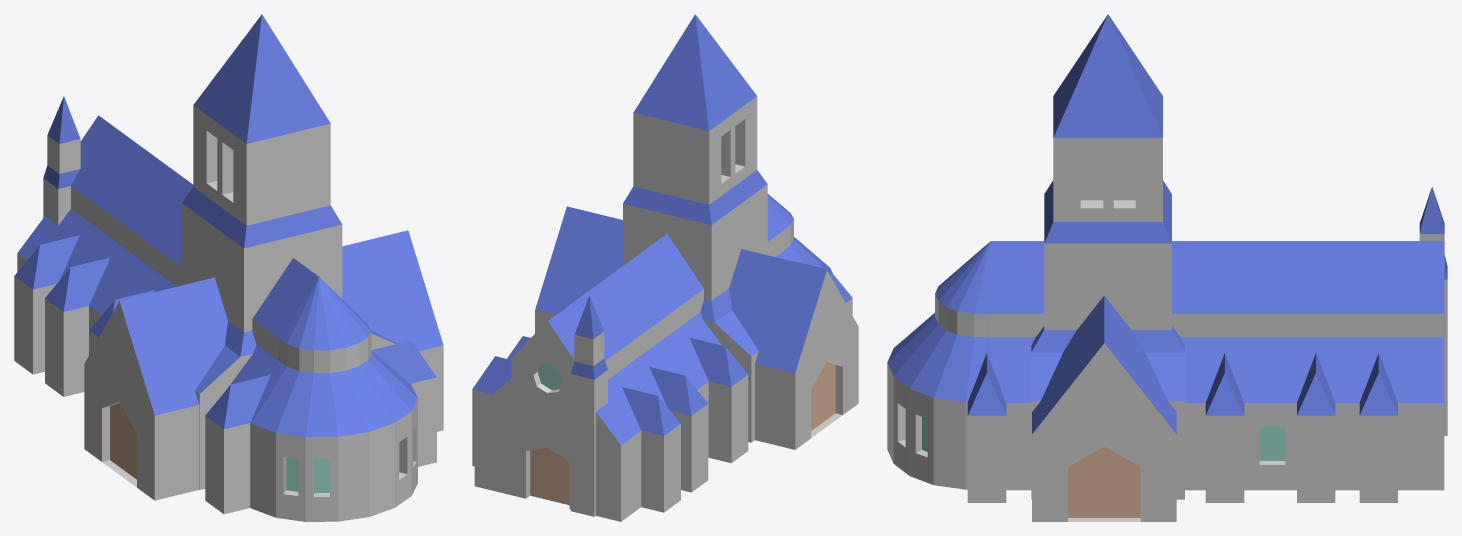
Rendered from Eglise.fbx.
3 renders of one model, left to right at view 1: azimuth 30°, elevation 25°; view 2: azimuth 150°, elevation 25°; view 3: azimuth 270°, elevation 25°, orthographic. The views are drawn at different scales.
Parts seen in each view (by area): view 1: Eglise; view 2: Eglise; view 3: Eglise.
Boxes of the visible parts, x1,y1,x2,y2 form: Eglise: (14,14,443,521); Eglise: (472,14,858,521); Eglise: (887,14,1447,521).
Bounding box in the file's own units: 414 × 582 × 678.
